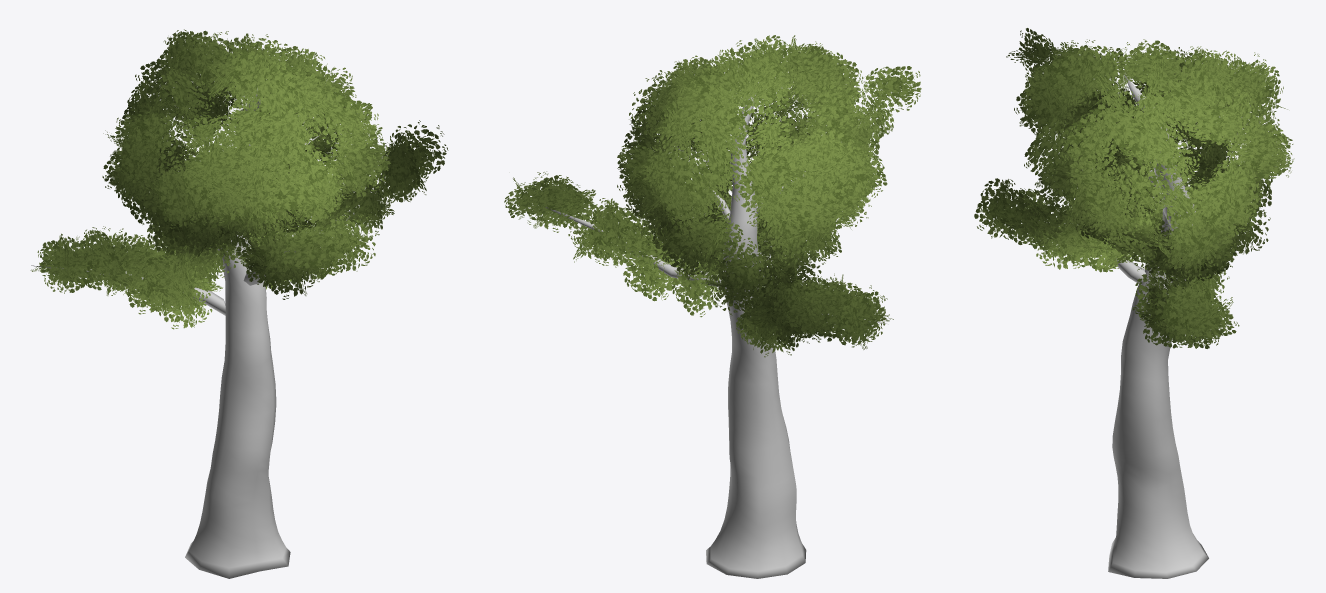
File: Tree_M2.fbx
3 renders of one model, left to right at view 1: azimuth 30°, elevation 25°; view 2: azimuth 150°, elevation 25°; view 3: azimuth 270°, elevation 25°, orthographic. The views are drawn at different scales.
Visible parts, largest first — view 1: Tree_M2_Leaves1, Tree_M2, Tree_M2_Leaves3, Tree_M2_Leaves4, Tree_M2_Leaves2, Tree_M2_Leaves5; view 2: Tree_M2_Leaves1, Tree_M2, Tree_M2_Leaves2, Tree_M2_Leaves3, Tree_M2_Leaves5; view 3: Tree_M2_Leaves1, Tree_M2, Tree_M2_Leaves4, Tree_M2_Leaves2, Tree_M2_Leaves5, Tree_M2_Leaves3.
Boxes of the visible parts, bbox=[...] form: Tree_M2_Leaves1: bbox=[102, 29, 390, 287]; Tree_M2: bbox=[31, 88, 385, 578]; Tree_M2_Leaves3: bbox=[30, 226, 222, 329]; Tree_M2_Leaves4: bbox=[236, 212, 377, 299]; Tree_M2_Leaves2: bbox=[265, 120, 448, 289]; Tree_M2_Leaves5: bbox=[182, 135, 262, 249]; Tree_M2_Leaves1: bbox=[617, 35, 887, 315]; Tree_M2: bbox=[545, 95, 888, 578]; Tree_M2_Leaves2: bbox=[504, 171, 722, 317]; Tree_M2_Leaves3: bbox=[736, 273, 893, 357]; Tree_M2_Leaves5: bbox=[755, 66, 921, 217]; Tree_M2_Leaves1: bbox=[1014, 39, 1294, 285]; Tree_M2: bbox=[1039, 74, 1227, 578]; Tree_M2_Leaves4: bbox=[974, 178, 1141, 272]; Tree_M2_Leaves2: bbox=[1132, 270, 1239, 348]; Tree_M2_Leaves5: bbox=[1006, 28, 1156, 207]; Tree_M2_Leaves3: bbox=[1187, 157, 1242, 299].
Size of the model in its own units: 845 by 992 by 591.
